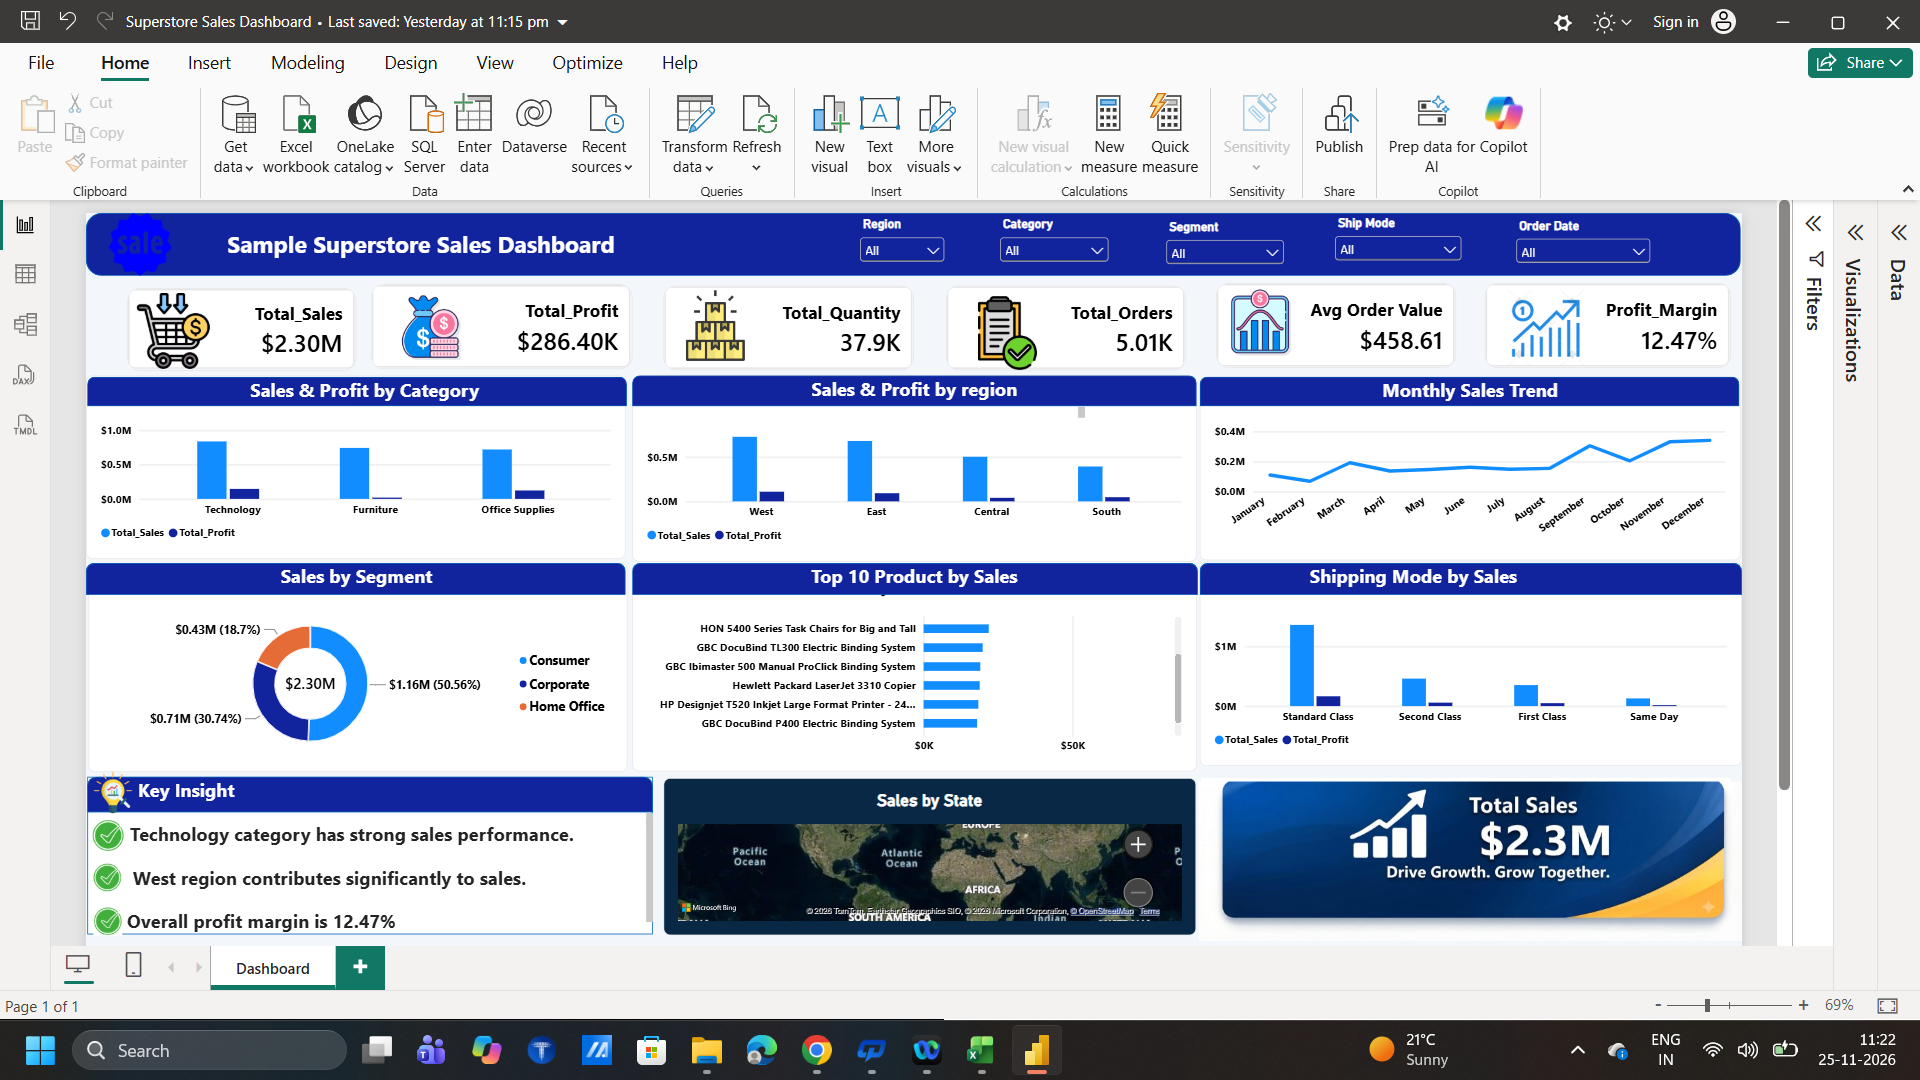

What the dashboard file says about the page in this screenshot:
{"tool":"powerbi","page":{"name":"Dashboard","canvas":[1920,1080],"ordinal":0},"visuals":[{"type":"cardVisual","fields":{"Data":["Measure1.Total_Sales"]},"box":[47.1,87.1,265.7,95.7],"z":0},{"type":"cardVisual","fields":{"Data":["Measure1.Total_Profit"]},"box":[330,82.9,302.9,98.6],"z":1000},{"type":"cardVisual","fields":{"Data":["Measure1.Total_Quantity"]},"box":[670,84.3,290,98.6],"z":2000},{"type":"cardVisual","fields":{"Data":["Measure1.Total_Orders"]},"box":[997.1,84.3,278.6,98.6],"z":3000},{"type":"cardVisual","fields":{"Data":["Measure1.Profit_Margin"]},"box":[1621.4,81.4,285.7,98.6],"z":4000},{"type":"clusteredColumnChart","title":"Sales & Profit by Category","fields":{"Category":["Superstore_Cld.Category"],"Y":["Measure1.Total_Sales","Measure1.Total_Profit"]},"box":[0,188.6,625.7,212.9],"z":5000},{"type":"clusteredColumnChart","title":"Sales & Profit by Region","fields":{"Category":["Superstore_Cld.Region"],"Y":["Measure1.Total_Sales","Measure1.Total_Profit"]},"box":[632.9,188.6,654.3,215.7],"z":6000},{"type":"lineChart","title":"Monthly Sales Trend","fields":{"Category":["Superstore_Cld.Ship Date.Variation.Date Hierarchy.Month"],"Y":["Measure1.Total_Sales"]},"box":[1291.4,190,627.1,212.9],"z":7000},{"type":"donutChart","title":"Sales by Segment","fields":{"Category":["Superstore_Cld.Segment"],"Y":["Measure1.Total_Sales"]},"box":[2.9,405.8,624.6,242],"z":8000},{"type":"clusteredBarChart","title":"Sales by Product Name","fields":{"Category":["Superstore_Cld.Product Name"],"Y":["Measure1.Total_Sales"]},"box":[632.9,405.7,654.3,241.4],"z":9000},{"type":"clusteredColumnChart","title":"Sales & Profit by Ship Mode","fields":{"Category":["Superstore_Cld.Ship Mode"],"Y":["Measure1.Total_Sales","Measure1.Total_Profit"]},"box":[1291.4,404.3,628.6,237.1],"z":10000},{"type":"shape","box":[0,0,1918.6,72.9],"z":11000},{"type":"textbox","box":[1.4,224.3,1157.1,12.9],"z":12000},{"type":"cardVisual","fields":{"Data":["Measure1.Average Order Value"]},"box":[1310,81.4,278.6,98.6],"z":14000},{"type":"image","box":[1261.4,87.1,202.9,80],"z":15000},{"type":"image","box":[23.5,92.6,155.9,88.2],"z":16000},{"type":"image","box":[330,91.4,140,82.9],"z":17000},{"type":"image","box":[657.1,87.1,145.7,87.1],"z":18000},{"type":"image","box":[1000,88.6,137.1,101.4],"z":19000},{"type":"image","box":[1621.4,88.6,141.4,88.6],"z":20000},{"type":"image","box":[22.9,0,78.6,72.9],"z":21000},{"type":"shape","box":[1.4,654.3,655.7,182.9],"z":22000},{"type":"textbox","box":[1.4,702.9,655.7,134.3],"z":23000},{"type":"shape","box":[1.4,190,625.7,34.3],"z":24000},{"type":"textbox","box":[1.4,695.7,655.7,14.3],"z":25000},{"type":"textbox","box":[1.4,190,625.7,34.3],"z":26000},{"type":"shape","box":[632.9,188.6,654.3,35.7],"z":26001},{"type":"textbox","box":[632.9,188.6,654.3,35.7],"z":26002},{"type":"shape","box":[1291.4,190,625.7,34.3],"z":26003},{"type":"textbox","box":[1291.4,190,627.1,34.3],"z":26004},{"type":"shape","box":[0,405.8,625.7,37.1],"z":26005},{"type":"textbox","box":[1.4,405.8,624.6,37.7],"z":26006},{"type":"shape","box":[632.9,405.7,655.7,37.1],"z":26007},{"type":"textbox","box":[632.9,405.7,654.3,37.1],"z":26008},{"type":"shape","box":[1291.4,405.7,628.6,37.1],"z":26009},{"type":"textbox","box":[1291.4,405.7,495.7,37.1],"z":26010},{"type":"shape","box":[1.4,654.3,655.7,41.4],"z":26011},{"type":"textbox","box":[1.4,654.3,655.7,48.6],"z":26012},{"type":"map","title":"Sales by State","fields":{"Size":["Sum(Superstore_Cld.Sales)"]},"box":[669.1,654.4,617.6,182.4],"z":26013},{"type":"textbox","box":[163.2,17.6,538.2,55.9],"z":26014},{"type":"clusteredColumnChart","box":[1292.6,654.4,614.7,182.4],"z":26015},{"type":"image","box":[1289.7,647.1,630.9,210.3],"z":26016},{"type":"slicer","fields":{"Values":["Superstore_Cld.Region"]},"box":[892.6,4.4,107.4,57.4],"z":26017},{"type":"slicer","fields":{"Values":["Superstore_Cld.Segment"]},"box":[1248.5,7.4,145.6,57.4],"z":26018},{"type":"slicer","fields":{"Values":["Superstore_Cld.Ship Mode"]},"box":[1444.1,2.9,155.9,61.8],"z":26019},{"type":"slicer","fields":{"Values":["Superstore_Cld.Category"]},"box":[1054.4,4.4,135.3,57.4],"z":26020},{"type":"slicer","fields":{"Values":["Superstore_Cld.Order Date"]},"box":[1652.9,5.9,164.7,57.4],"z":26021},{"type":"image","box":[0,647.8,62.3,47.8],"z":26022},{"type":"image","box":[2.9,702.9,44.9,37.7],"z":26023},{"type":"image","box":[0,753.6,49.3,33.3],"z":26024},{"type":"image","box":[2.9,804.3,44.9,33.3],"z":26025}]}

Visuals, with their boxes on the page's 1920x1080 design canvas (x1, y1, x2, y2). These are canvas units, not pixel positions in the 1920x1080 screenshot, which may show the page scaled, cropped or inside an application window:
cardVisual - Measure1.Total_Sales: Rect(47, 87, 313, 183)
cardVisual - Measure1.Total_Profit: Rect(330, 83, 633, 182)
cardVisual - Measure1.Total_Quantity: Rect(670, 84, 960, 183)
cardVisual - Measure1.Total_Orders: Rect(997, 84, 1276, 183)
cardVisual - Measure1.Profit_Margin: Rect(1621, 81, 1907, 180)
"Sales & Profit by Category" clusteredColumnChart: Rect(0, 189, 626, 402)
"Sales & Profit by Region" clusteredColumnChart: Rect(633, 189, 1287, 404)
"Monthly Sales Trend" lineChart: Rect(1291, 190, 1918, 403)
"Sales by Segment" donutChart: Rect(3, 406, 628, 648)
"Sales by Product Name" clusteredBarChart: Rect(633, 406, 1287, 647)
"Sales & Profit by Ship Mode" clusteredColumnChart: Rect(1291, 404, 1920, 641)
shape: Rect(0, 0, 1919, 73)
textbox: Rect(1, 224, 1158, 237)
cardVisual - Measure1.Average Order Value: Rect(1310, 81, 1589, 180)
image: Rect(1261, 87, 1464, 167)
image: Rect(24, 93, 179, 181)
image: Rect(330, 91, 470, 174)
image: Rect(657, 87, 803, 174)
image: Rect(1000, 89, 1137, 190)
image: Rect(1621, 89, 1763, 177)
image: Rect(23, 0, 102, 73)
shape: Rect(1, 654, 657, 837)
textbox: Rect(1, 703, 657, 837)
shape: Rect(1, 190, 627, 224)
textbox: Rect(1, 696, 657, 710)
textbox: Rect(1, 190, 627, 224)
shape: Rect(633, 189, 1287, 224)
textbox: Rect(633, 189, 1287, 224)
shape: Rect(1291, 190, 1917, 224)
textbox: Rect(1291, 190, 1918, 224)
shape: Rect(0, 406, 626, 443)
textbox: Rect(1, 406, 626, 444)
shape: Rect(633, 406, 1289, 443)
textbox: Rect(633, 406, 1287, 443)
shape: Rect(1291, 406, 1920, 443)
textbox: Rect(1291, 406, 1787, 443)
shape: Rect(1, 654, 657, 696)
textbox: Rect(1, 654, 657, 703)
"Sales by State" map: Rect(669, 654, 1287, 837)
textbox: Rect(163, 18, 701, 74)
clusteredColumnChart: Rect(1293, 654, 1907, 837)
image: Rect(1290, 647, 1921, 857)
slicer - Superstore_Cld.Region: Rect(893, 4, 1000, 62)
slicer - Superstore_Cld.Segment: Rect(1248, 7, 1394, 65)
slicer - Superstore_Cld.Ship Mode: Rect(1444, 3, 1600, 65)
slicer - Superstore_Cld.Category: Rect(1054, 4, 1190, 62)
slicer - Superstore_Cld.Order Date: Rect(1653, 6, 1818, 63)
image: Rect(0, 648, 62, 696)
image: Rect(3, 703, 48, 741)
image: Rect(0, 754, 49, 787)
image: Rect(3, 804, 48, 838)
